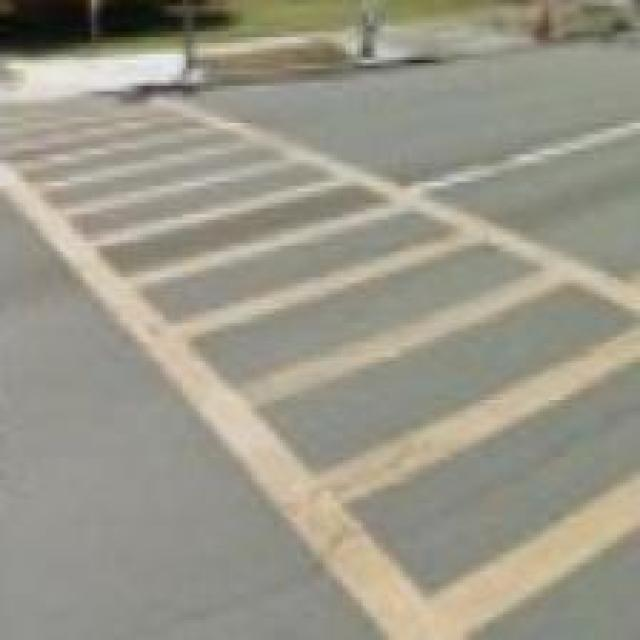walk-crossing: (1, 87, 640, 619)
